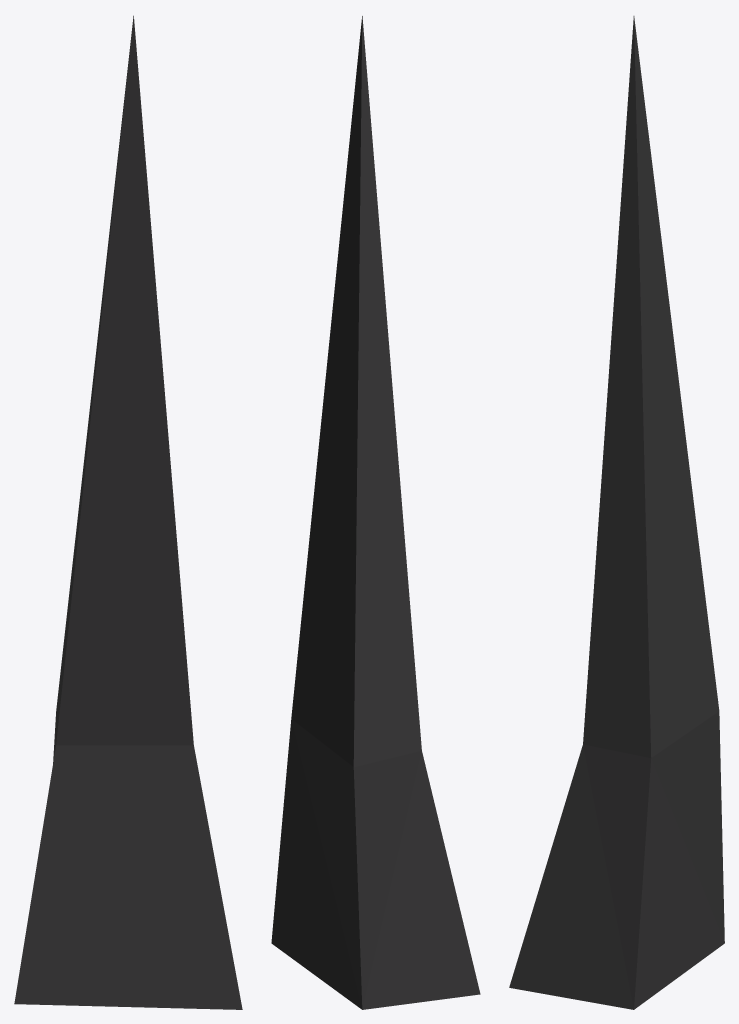
File: Stal_1E_LOD.fbx
3 views of the same model, side by side, from view 1: azimuth 30°, elevation 25°; view 2: azimuth 150°, elevation 25°; view 3: azimuth 270°, elevation 25° (orthographic).
Parts seen in each view (by area): view 1: pCone43; view 2: pCone43; view 3: pCone43.
Boxes of the visible parts, left/top/right/bottom form: pCone43: left=14, top=15, right=242, bottom=1009; pCone43: left=271, top=16, right=480, bottom=1009; pCone43: left=509, top=16, right=724, bottom=1009.
Size of the model in its own units: 0.92 by 4 by 0.822.
